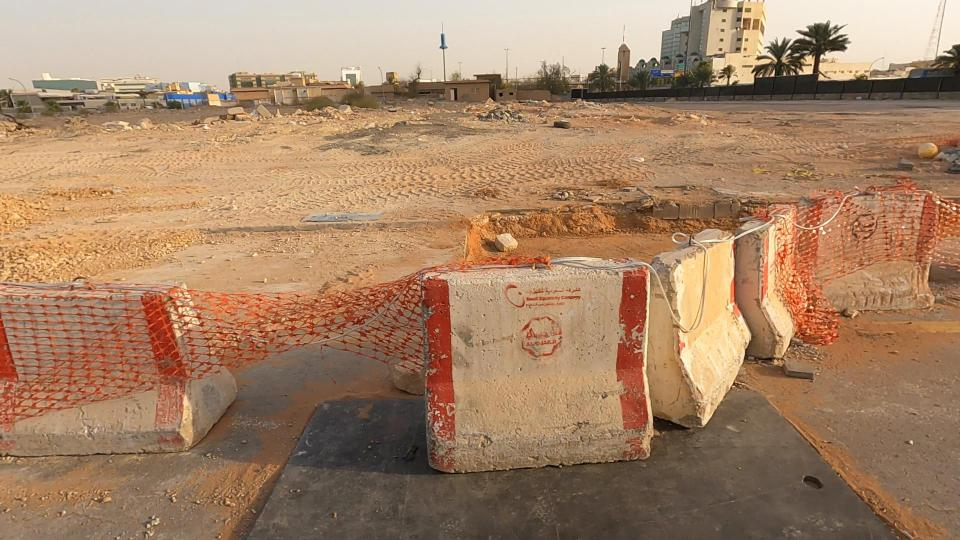CONSTRUCTION_ROAD: (171, 154, 960, 459), (0, 143, 405, 498), (670, 95, 960, 425)
GARBAGE: (864, 99, 960, 201), (512, 92, 623, 172), (441, 78, 555, 143)
